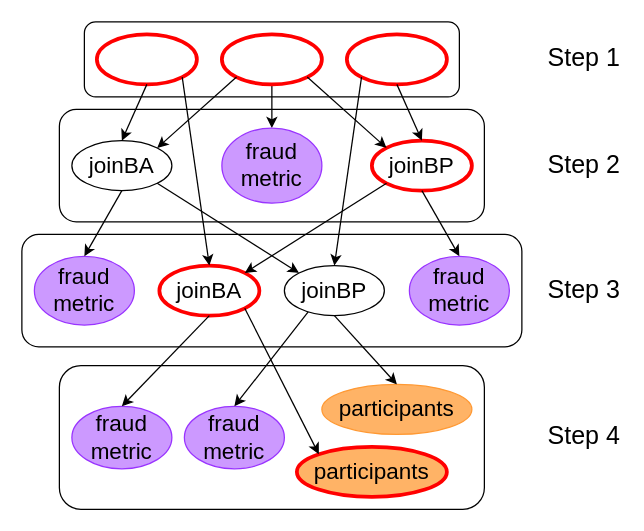
Image size: 644x531. Some labels were removed from this diagram. Here are the shapes that lost their labels. From the top down, the centre of each, then its label:
the point at 146,59: auction
the point at 271,59: bid
the point at 396,59: person
